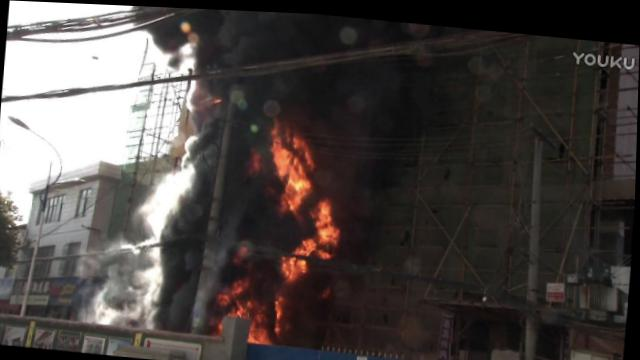fire: (278, 148, 311, 211), (267, 122, 292, 171), (313, 219, 341, 256), (281, 252, 309, 277), (310, 193, 333, 220), (248, 321, 274, 341), (290, 132, 311, 153), (229, 272, 250, 292), (274, 292, 285, 329), (293, 232, 315, 250), (230, 297, 250, 315), (252, 301, 269, 321), (217, 285, 233, 302), (250, 147, 262, 169)
